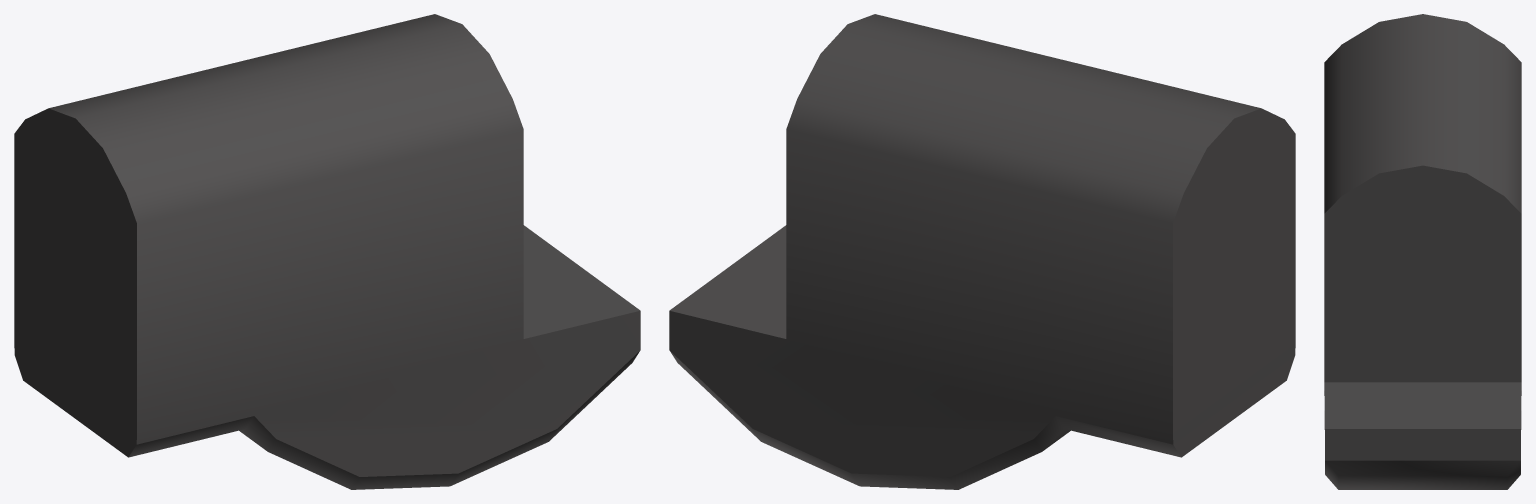
3 renders of one model, left to right at view 1: azimuth 30°, elevation 25°; view 2: azimuth 150°, elevation 25°; view 3: azimuth 270°, elevation 25°, orthographic. The views are drawn at different scales.
Parts seen in each view (by area): view 1: RHipRoll; view 2: RHipRoll; view 3: RHipRoll.
Part boxes in pixels (x1=…): RHipRoll: x1=14, y1=14, x2=640, y2=489; RHipRoll: x1=669, y1=14, x2=1295, y2=489; RHipRoll: x1=1324, y1=14, x2=1521, y2=489.
Bounding box in the file's own units: 0.6688 × 0.5172 × 0.2822.
Materials: 1 (1 with a texture image).
